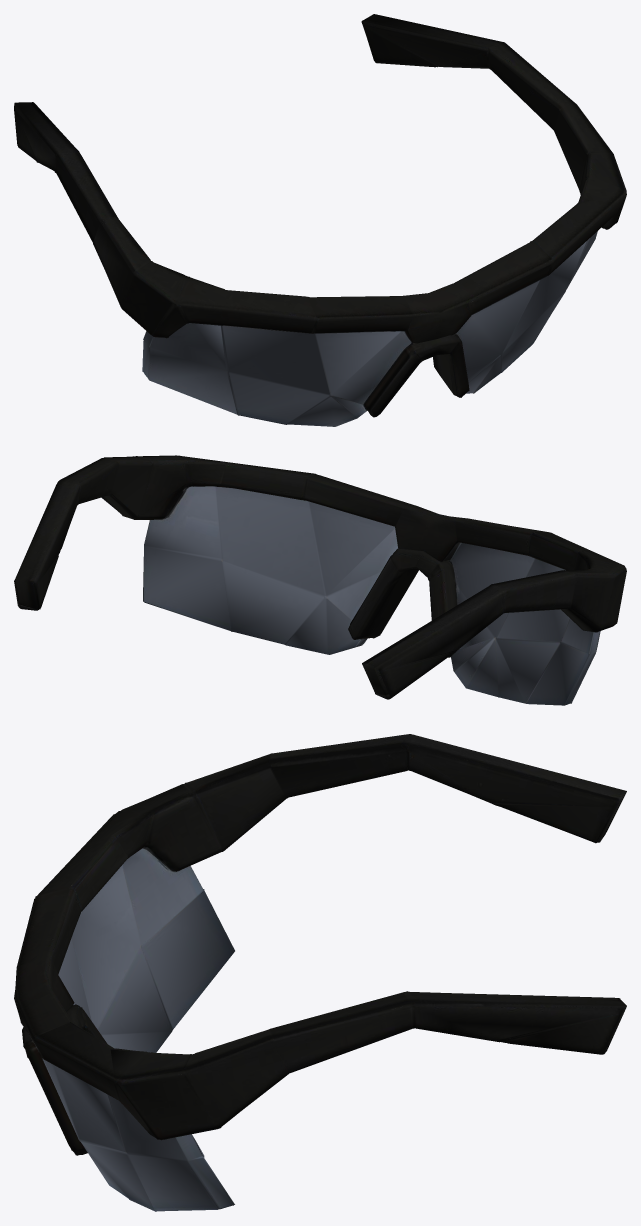
The model's file is 런닝용선글라스.glb.
The picture shows the model from 3 angles, top to bottom: view 1: azimuth 30°, elevation 25°; view 2: azimuth 150°, elevation 25°; view 3: azimuth 270°, elevation 25°; orthographic projection. The views are drawn at different scales.
Parts seen in each view (by area): view 1: tripo_node_27c96bdc-4c4a-46e1-b032-aa171f183233; view 2: tripo_node_27c96bdc-4c4a-46e1-b032-aa171f183233; view 3: tripo_node_27c96bdc-4c4a-46e1-b032-aa171f183233.
Part boxes in pixels (box(x1,y1,x2,y2)): tripo_node_27c96bdc-4c4a-46e1-b032-aa171f183233: box(14, 14, 626, 426); tripo_node_27c96bdc-4c4a-46e1-b032-aa171f183233: box(14, 455, 626, 705); tripo_node_27c96bdc-4c4a-46e1-b032-aa171f183233: box(14, 734, 626, 1211).
Bounding box in the file's own units: 0.998 × 0.4434 × 0.8926.
Materials: 1 (1 with a texture image).
